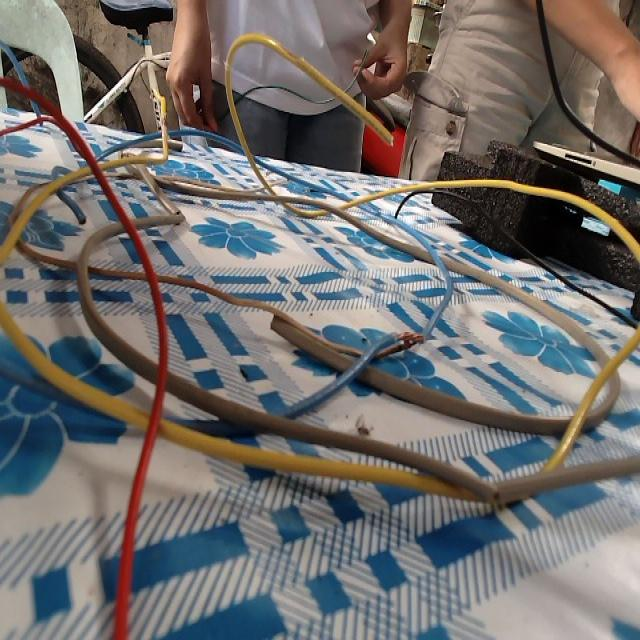-: (391, 324, 430, 353), (156, 108, 170, 136), (73, 208, 89, 228)
